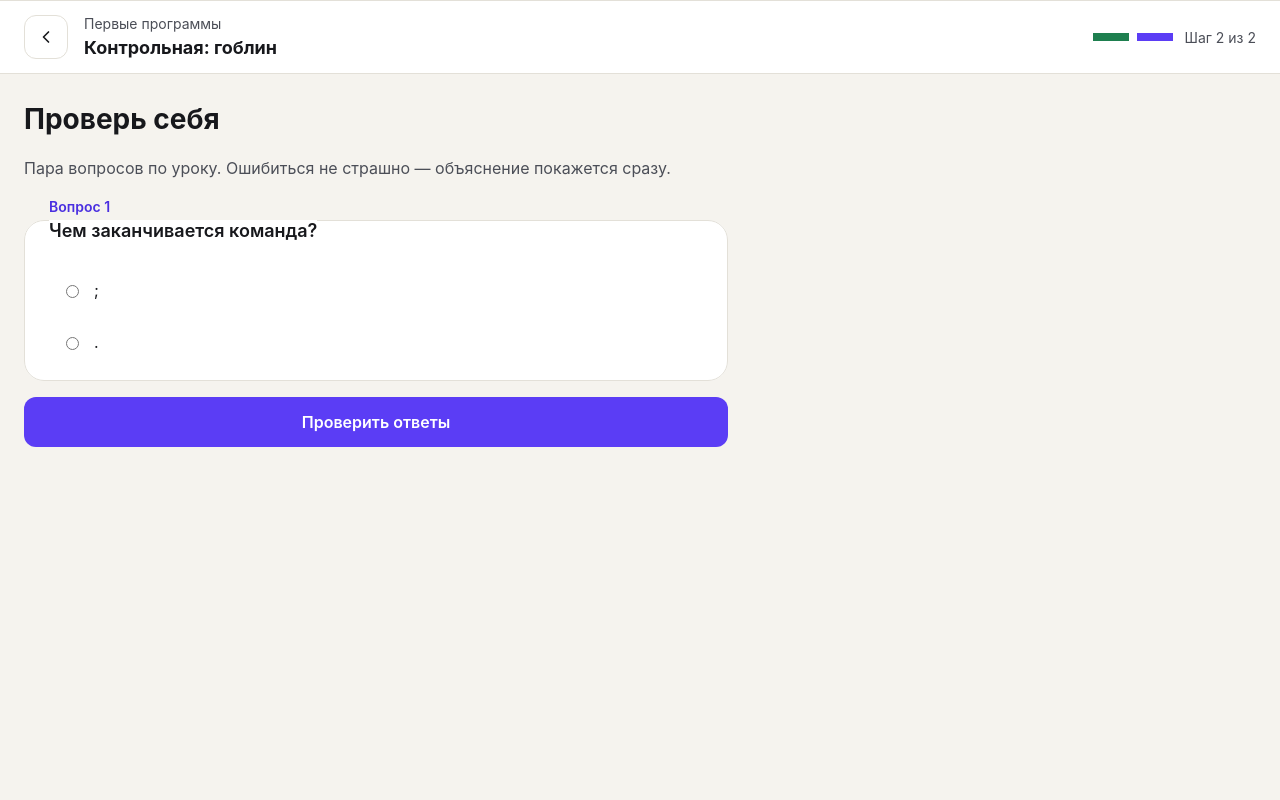
Test: LessonView › контрольная пройдена и все уроки модуля тоже — «Модуль пройден!» и следующий модуль
The image size is (1280, 800).
Check: the text "Модуль пройден!" is not shown
Click the radio button labelled ";" at x=72, y=292, box [66, 285, 79, 298]
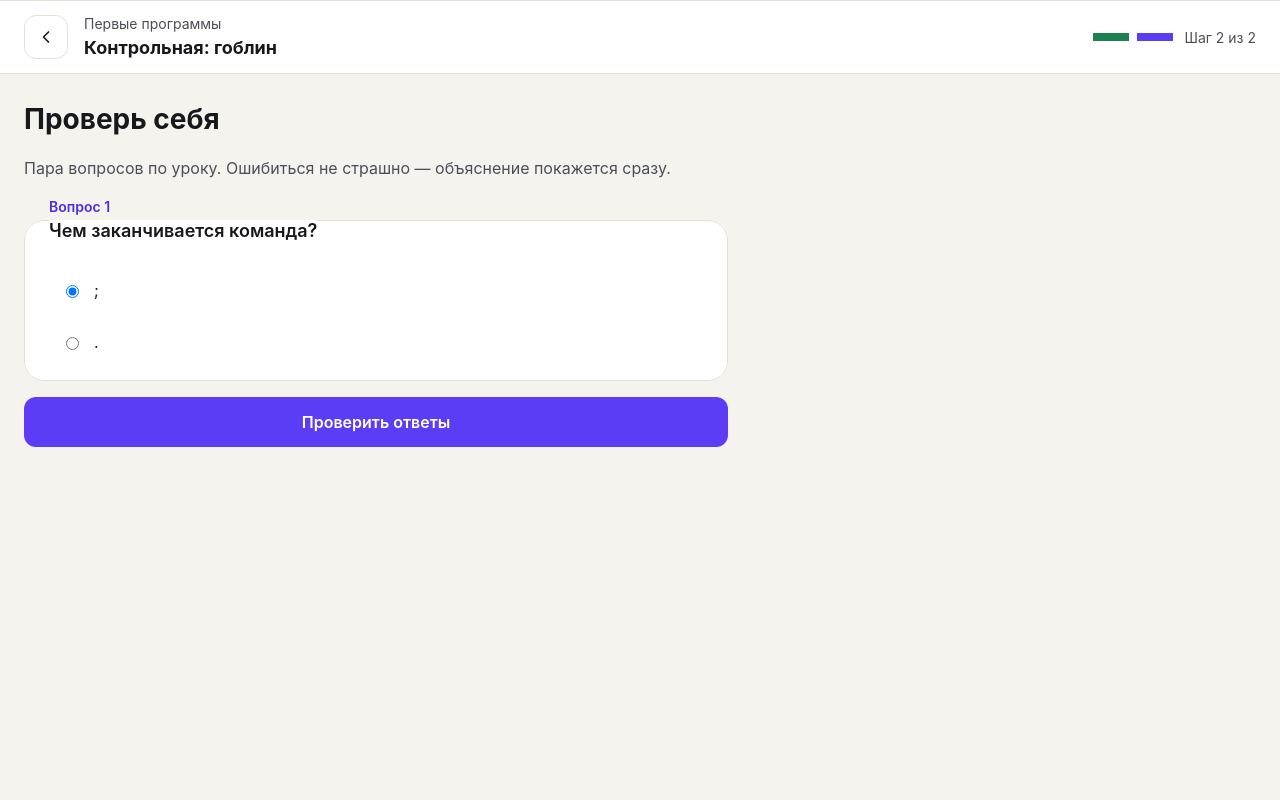
Click the button "Проверить ответы" at x=376, y=422, box [24, 397, 728, 447]
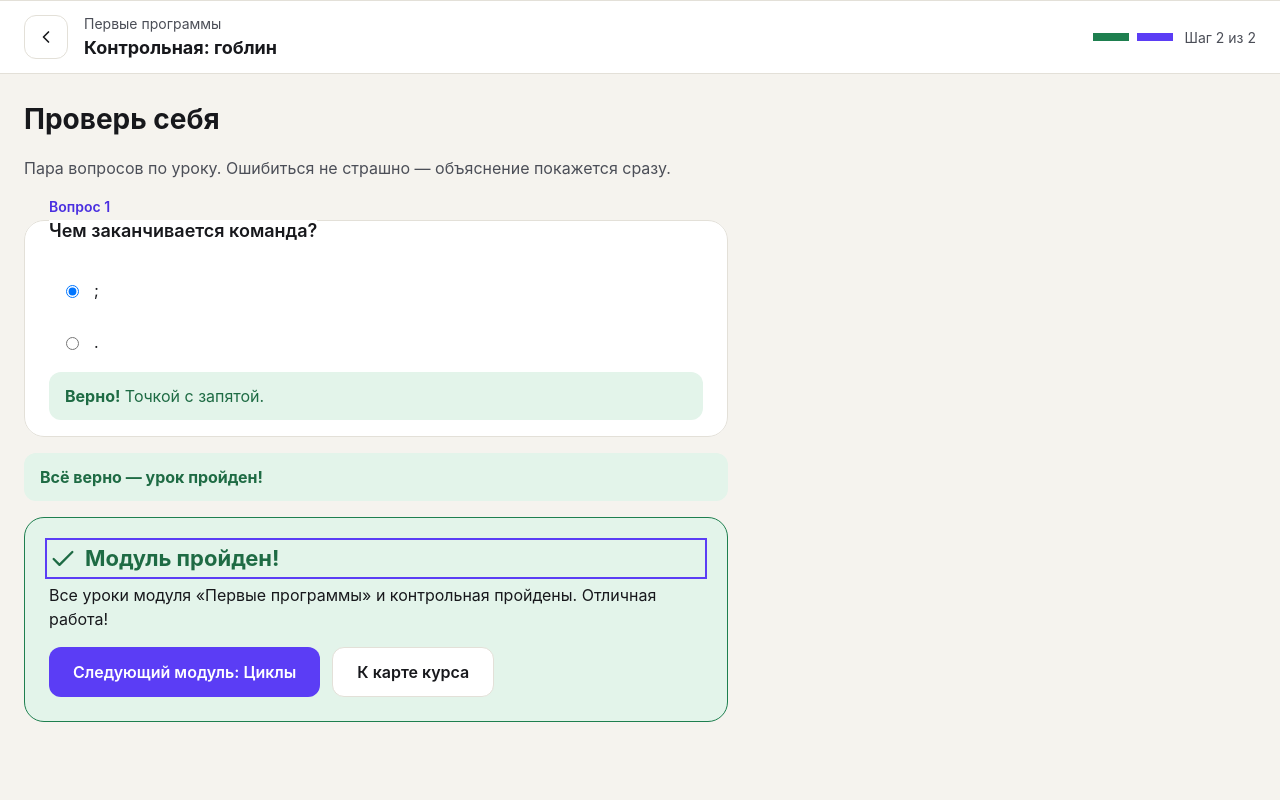
Check: the heading "Модуль пройден!" is shown, box [49, 544, 280, 572]
Check: the element that starts with "Модуль пройден!" shows "Все уроки модуля «Первые программы» и контрольная пройдены. Отличная работа!", box [49, 585, 656, 629]
